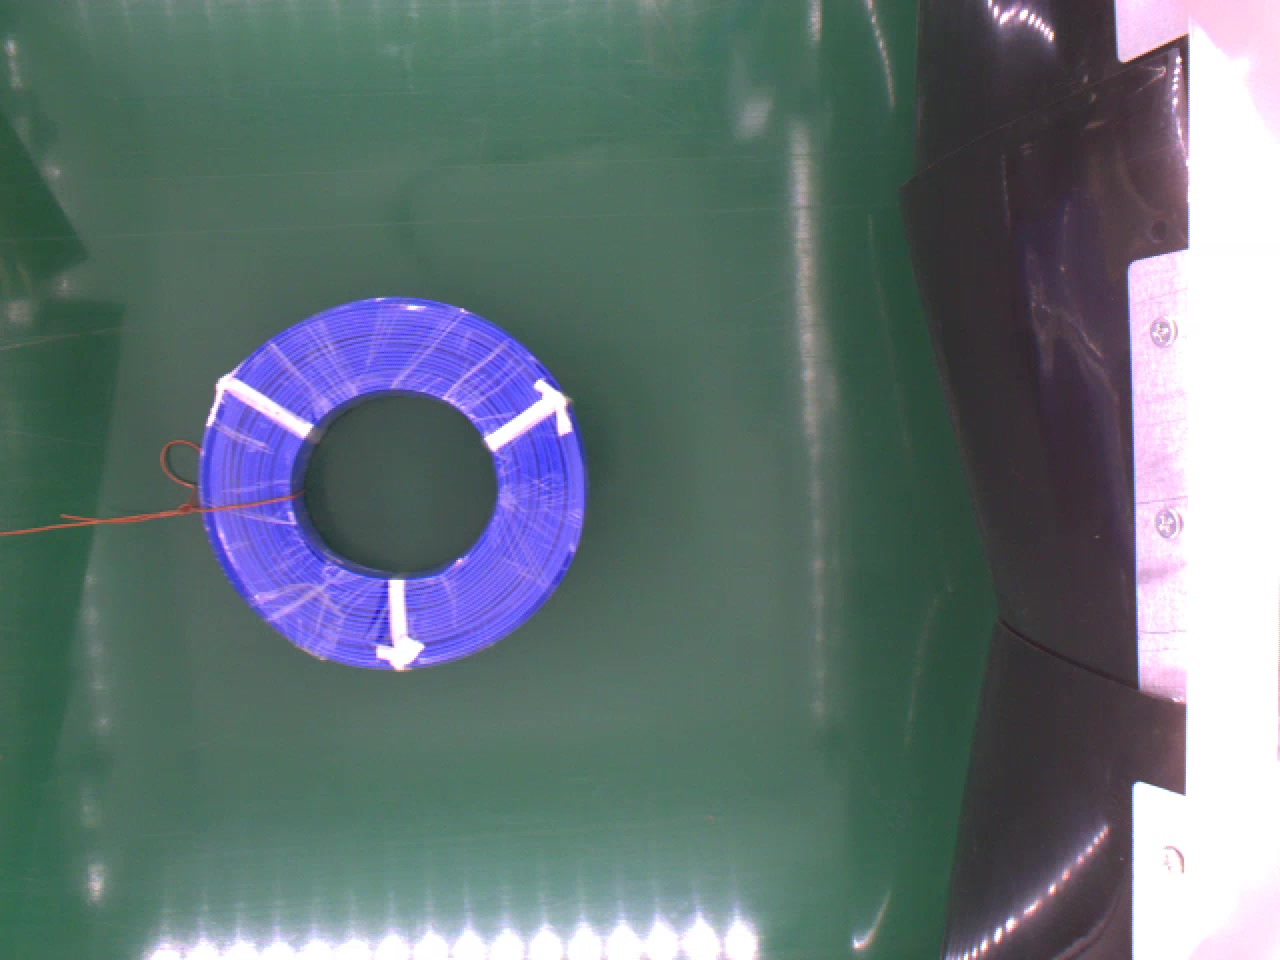blue: (194, 294, 586, 671)
